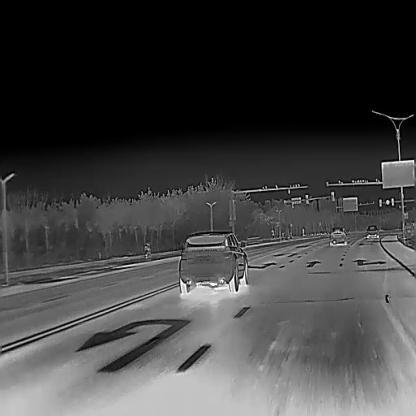car: (178, 230, 248, 292), (329, 226, 347, 244), (365, 224, 379, 238)
